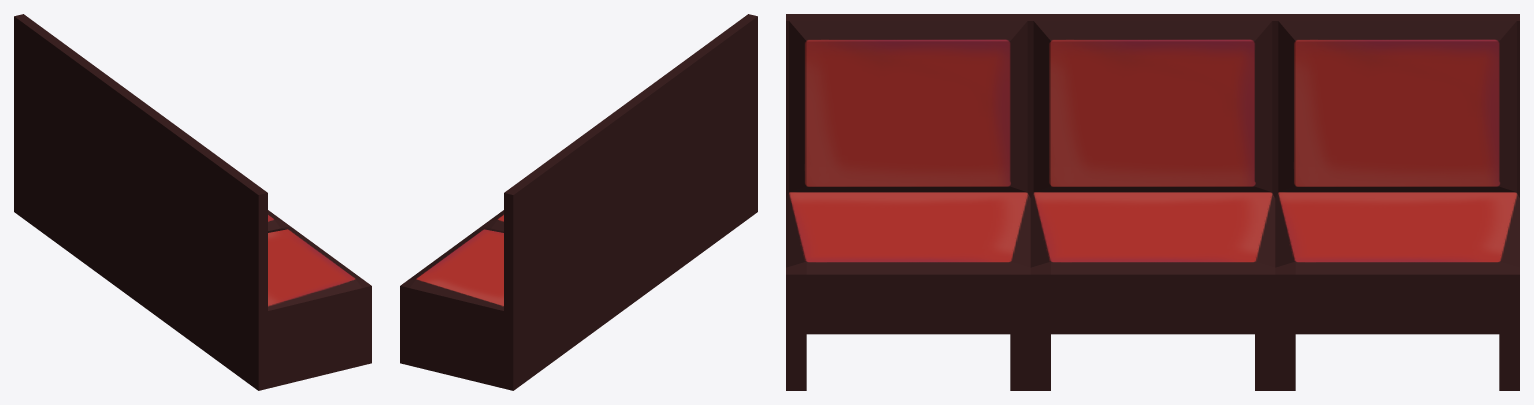
File: Couch.fbx
3 renders of one model, left to right at view 1: azimuth 30°, elevation 25°; view 2: azimuth 150°, elevation 25°; view 3: azimuth 270°, elevation 25°, orthographic. The views are drawn at different scales.
Visible parts, largest first — view 1: Couch; view 2: Couch; view 3: Couch.
Boxes of the visible parts, box(x1,y1,x2,y2) form: Couch: box(14, 14, 371, 390); Couch: box(400, 14, 757, 390); Couch: box(786, 14, 1519, 390).
Size of the model in its own units: 106 by 175 by 395.
